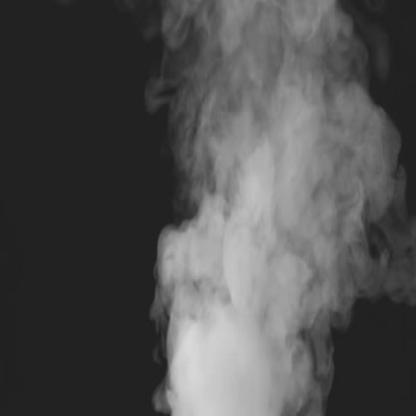smoke: (157, 0, 394, 415)
